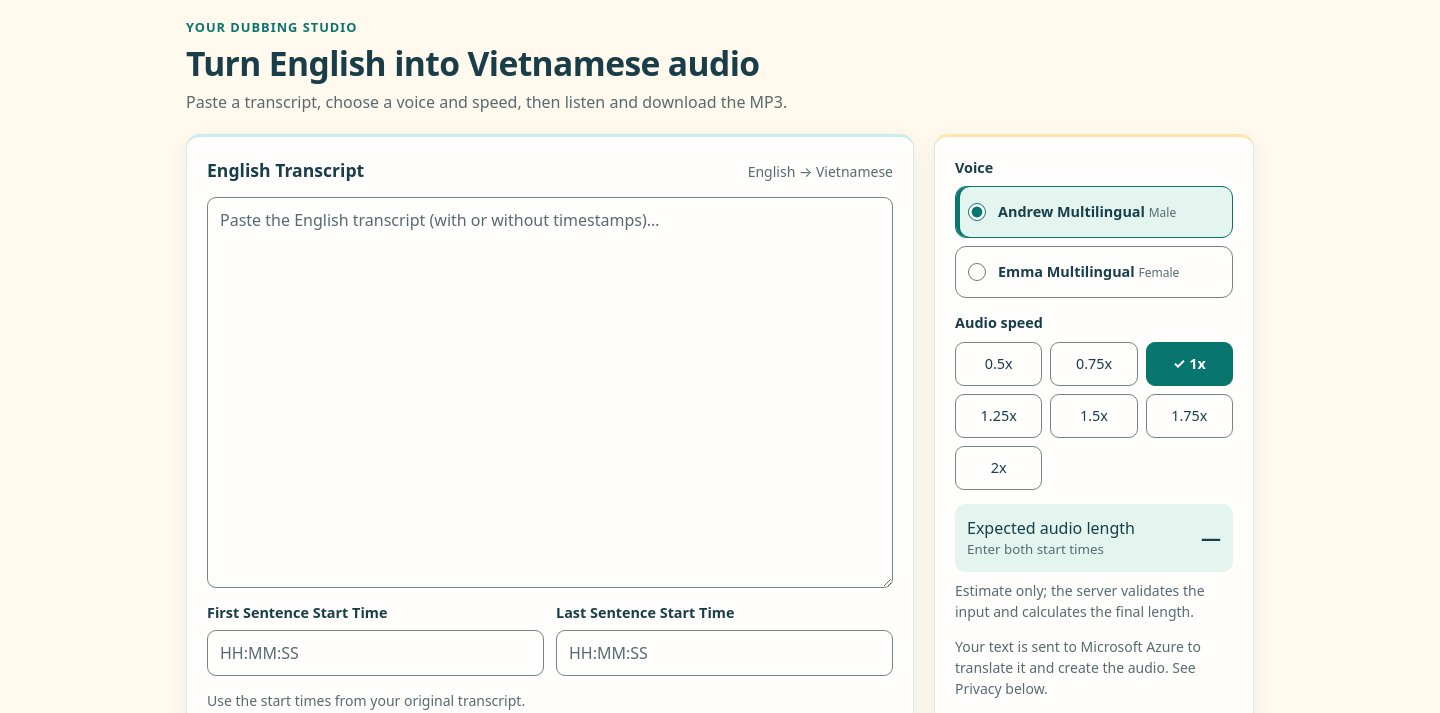
Translate to › offers nothing and sends nothing when the server lists no languages
Expected: the text "English → Vietnamese" is shown, x1=748 y1=160 x2=893 y2=182
Type "Spring Boot uses JSON." into the text box labelled "English Transcript". click: (550, 392)
box: x1=207 y1=197 x2=893 y2=588
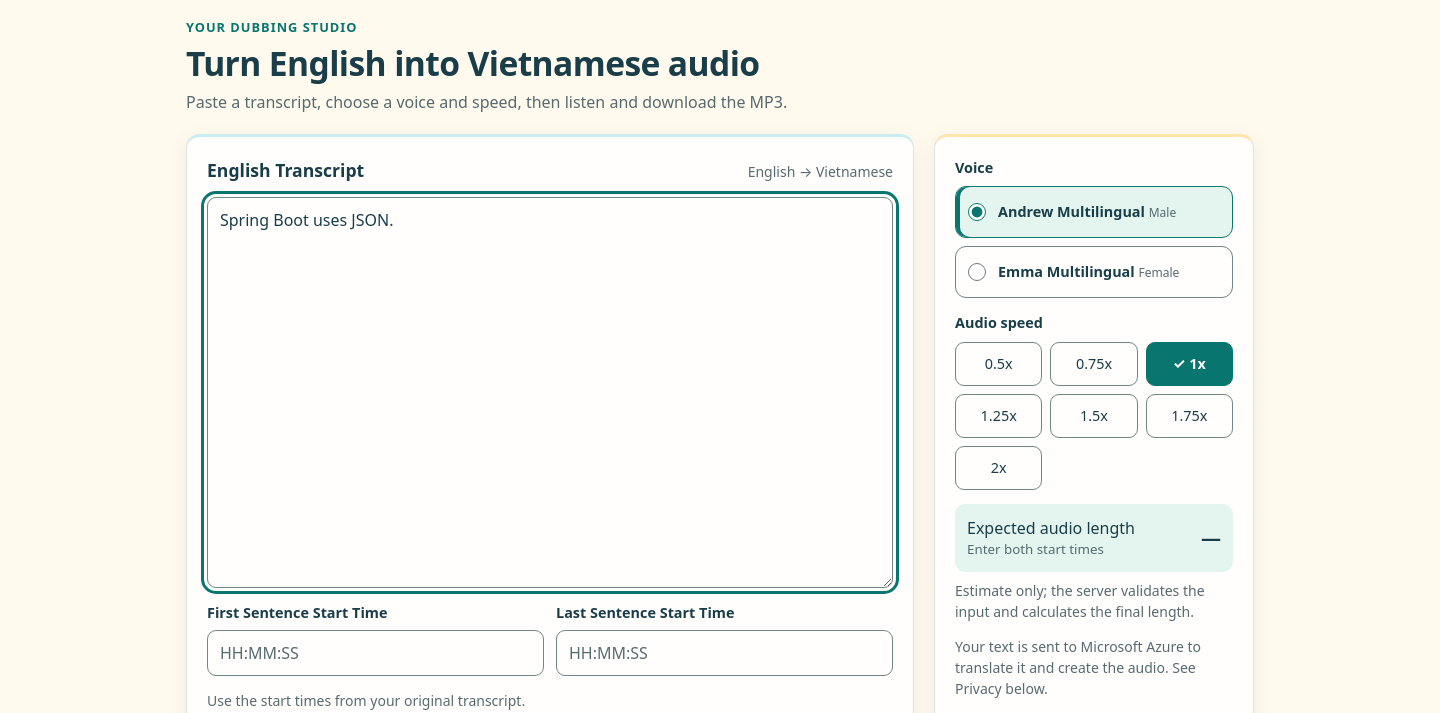
Type "00:00:10" into the field labelled "First Sentence Start Time". click: (376, 653)
box: x1=207 y1=630 x2=544 y2=676
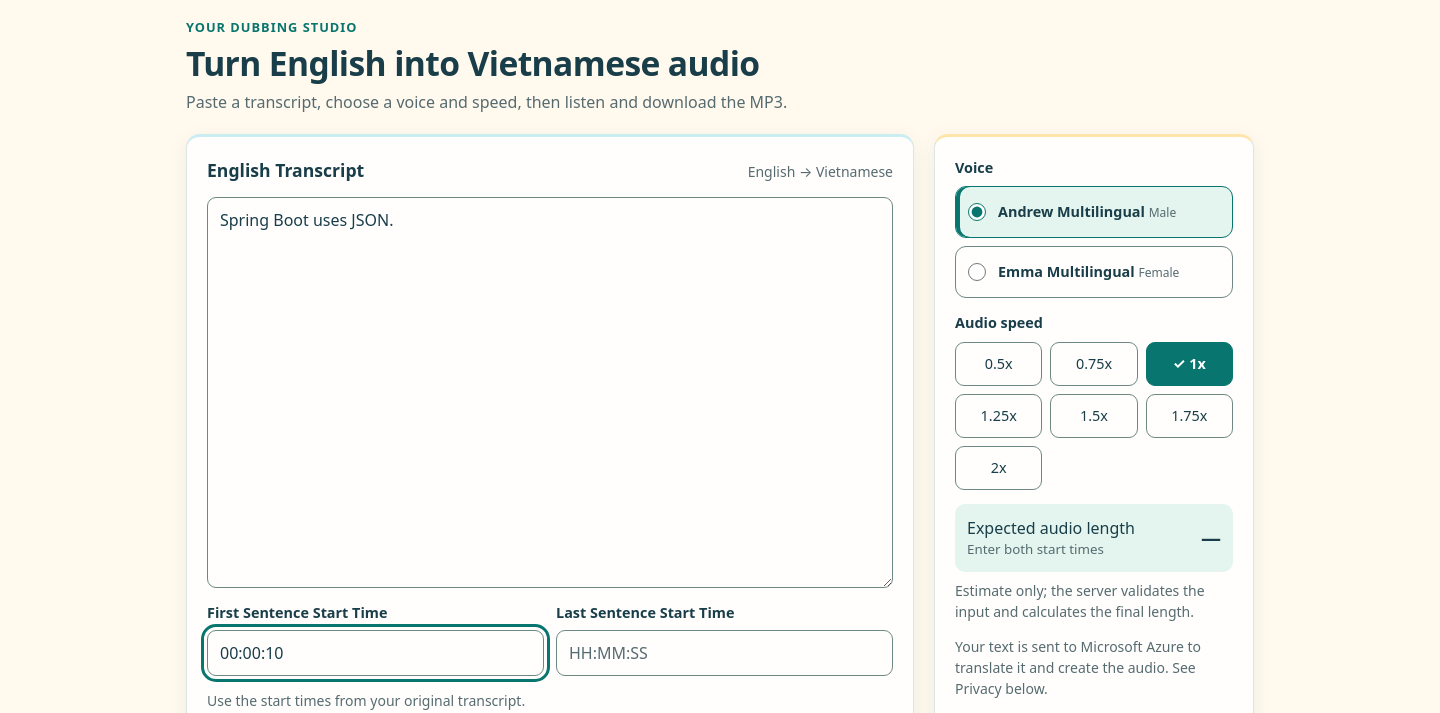
Type "00:06:10" into the field labelled "Last Sentence Start Time". click: (724, 653)
box: x1=556 y1=630 x2=893 y2=676
(page scrolled)
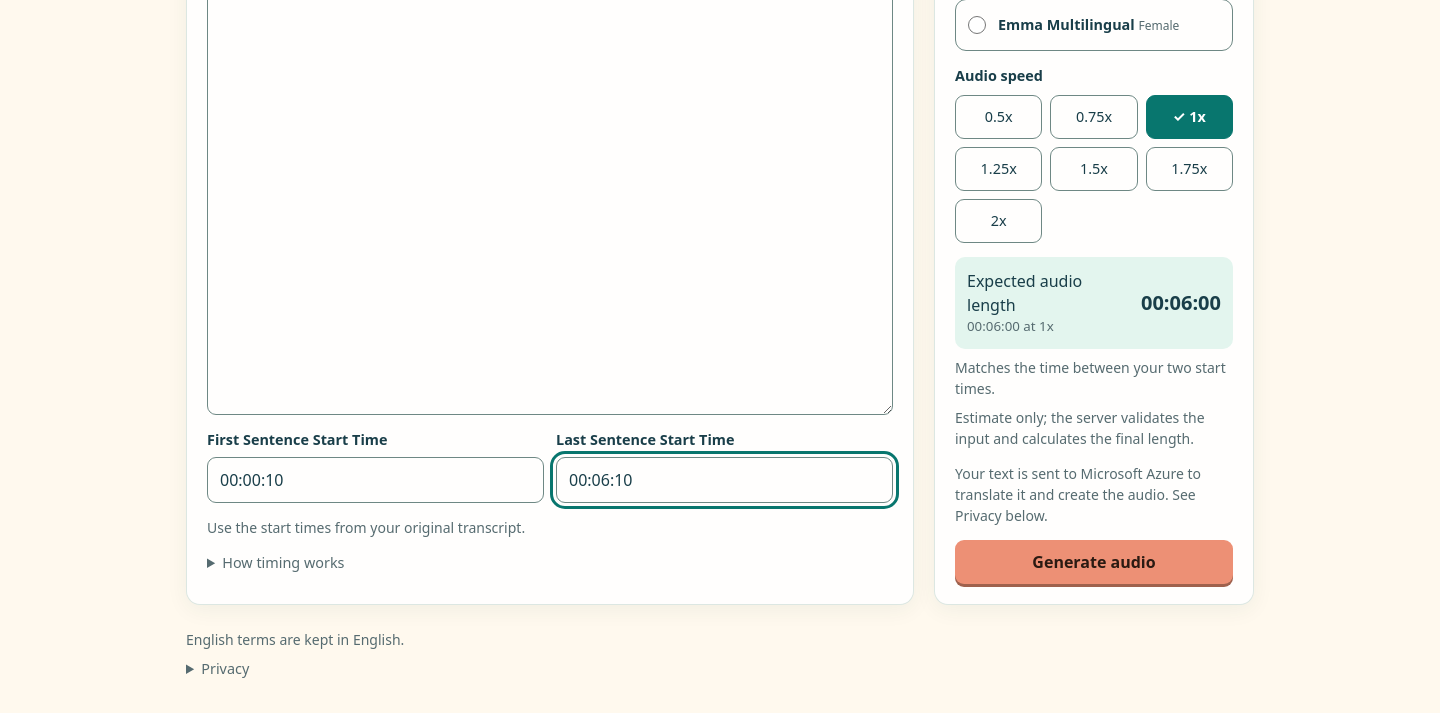
Click the button "Generate audio". click: (1094, 562)
box: x1=955 y1=540 x2=1233 y2=584
(page scrolled)
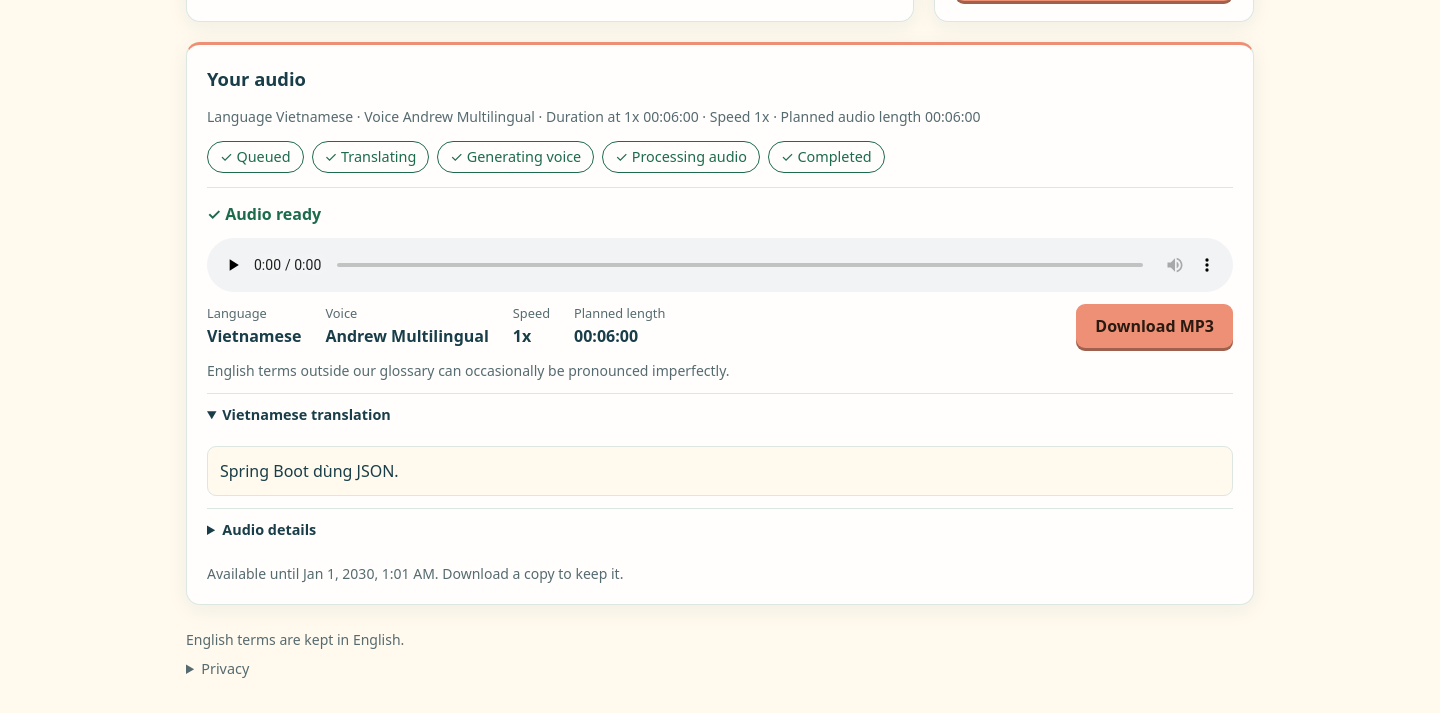
Now the heading "Vietnamese translation" is shown, box x1=222 y1=405 x2=391 y2=424
